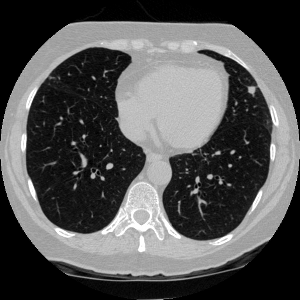nodule: (248, 85, 256, 93)
